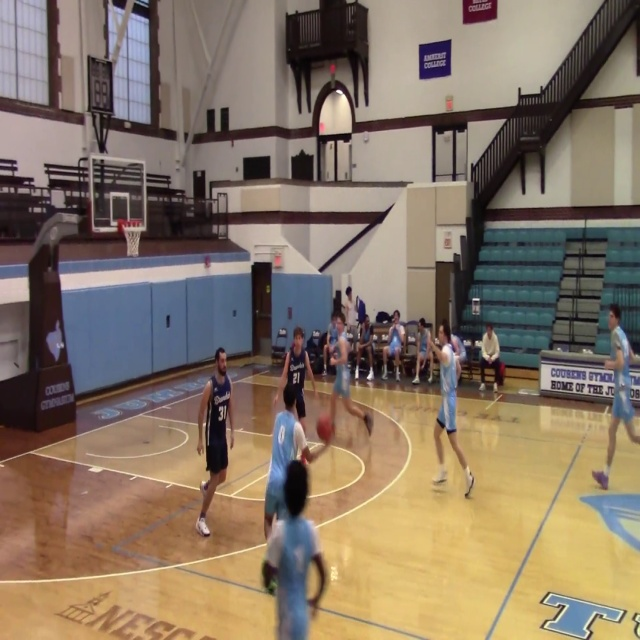Basketball: (316, 413, 334, 442)
